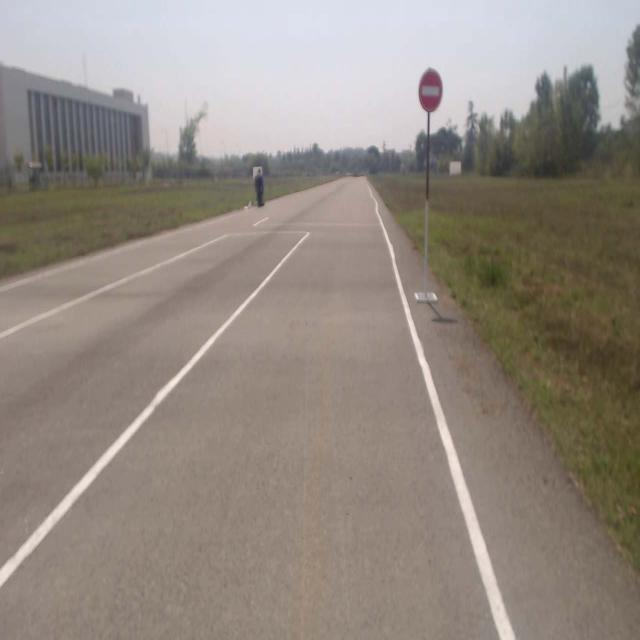girisyok: (419, 68, 443, 112)
